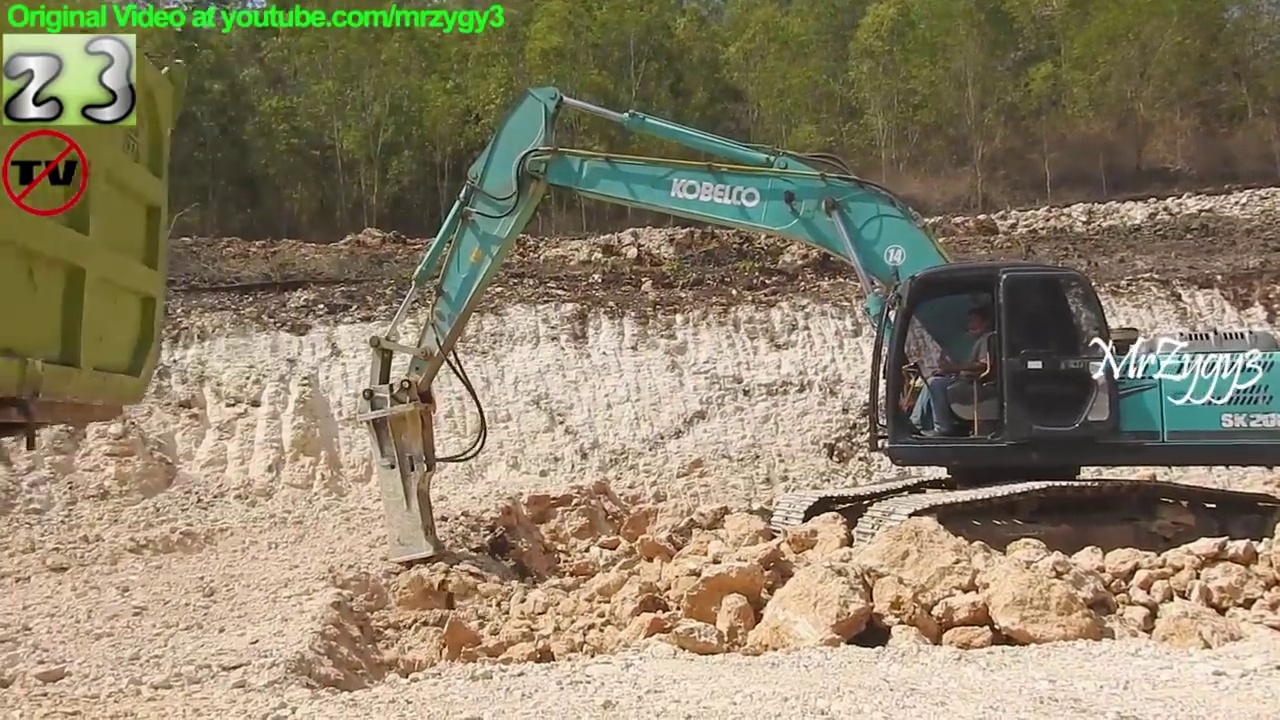excavator breaker: (355, 76, 1280, 595)
truck: (1, 27, 181, 462)
